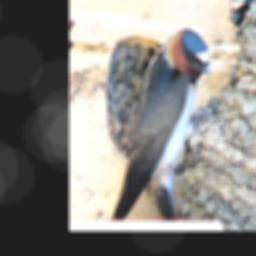Swallow: (106, 27, 211, 219)
